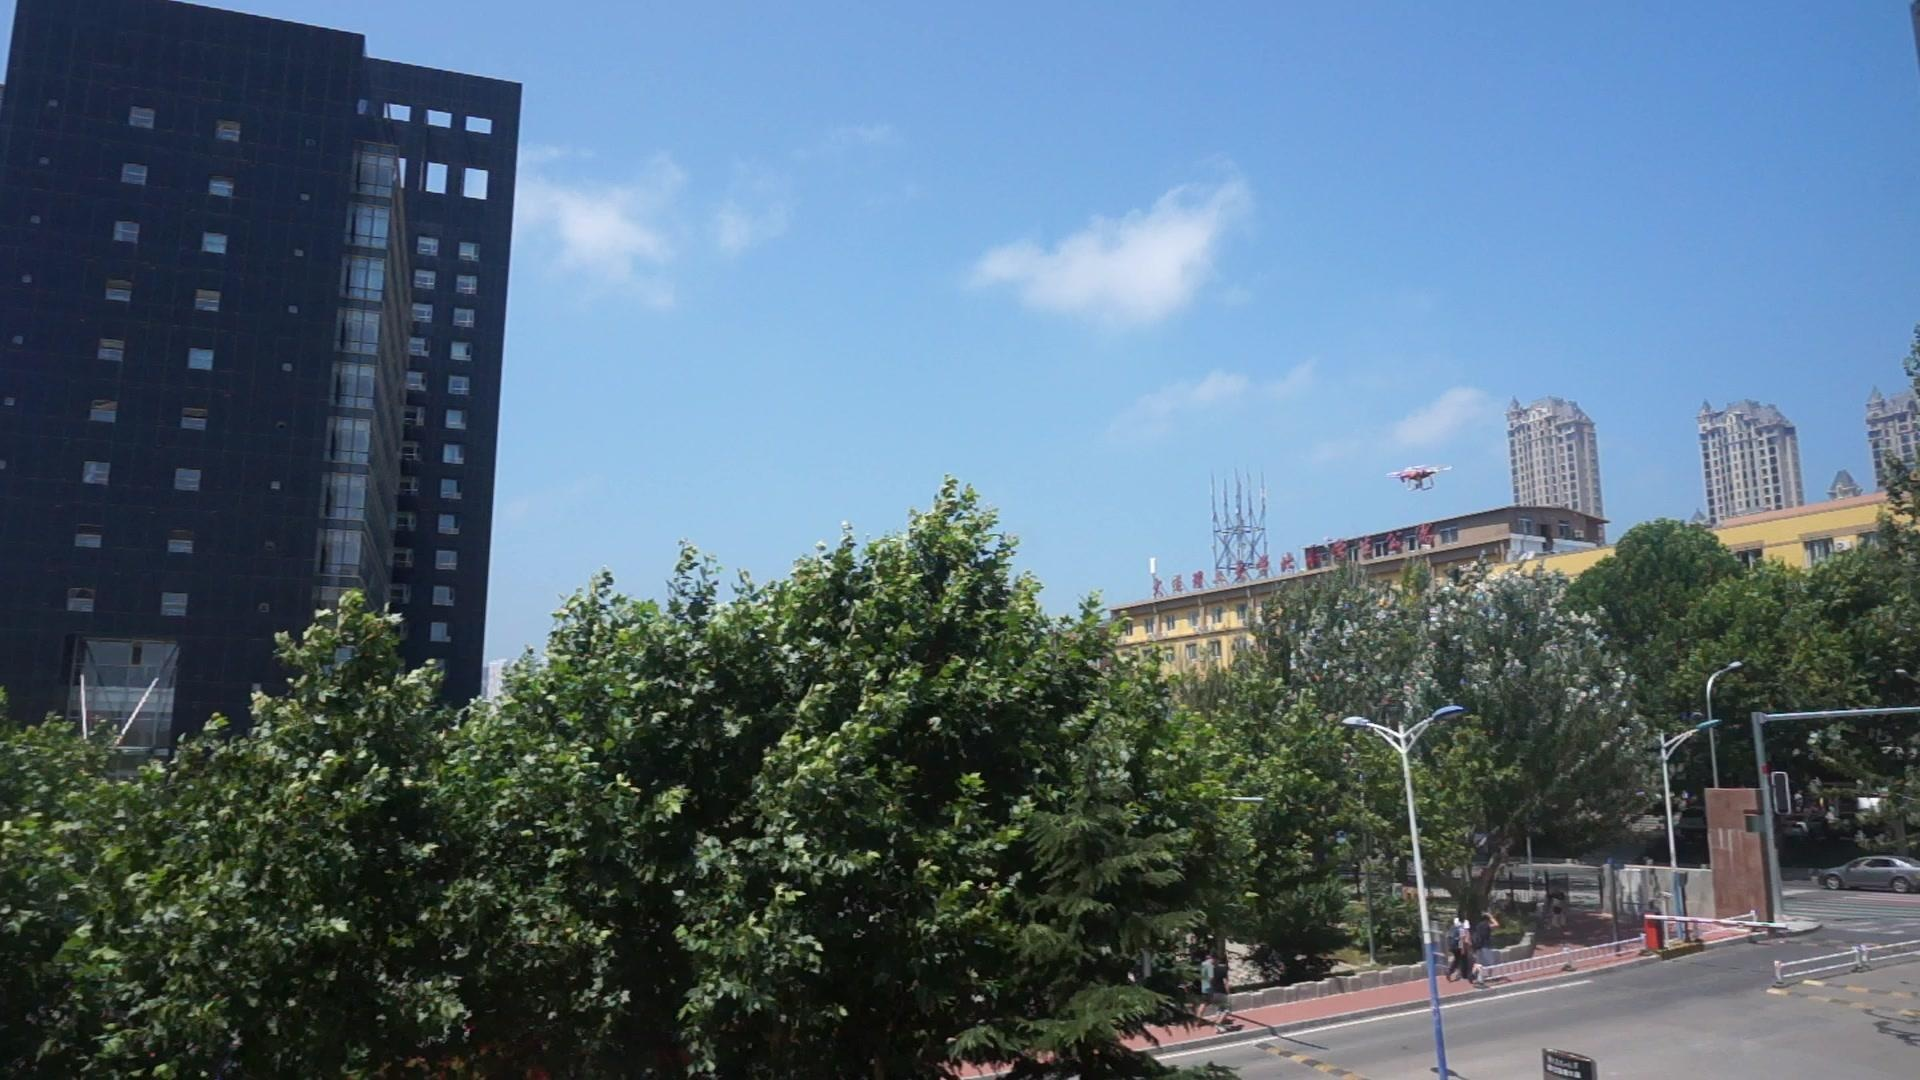UAV: (1387, 465, 1453, 492)
